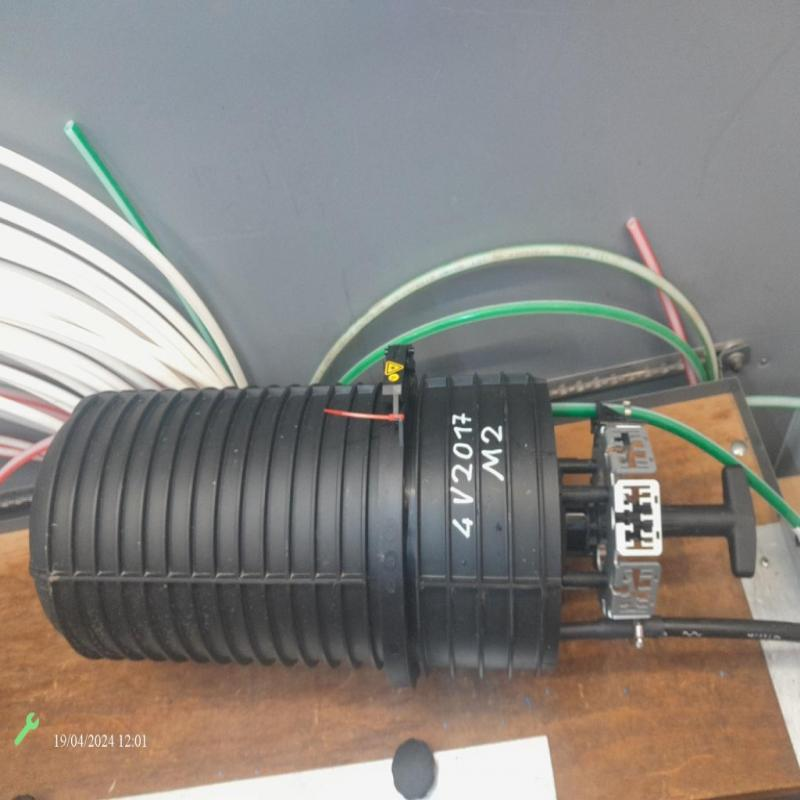NT-Muffen: (30, 373, 788, 684)
